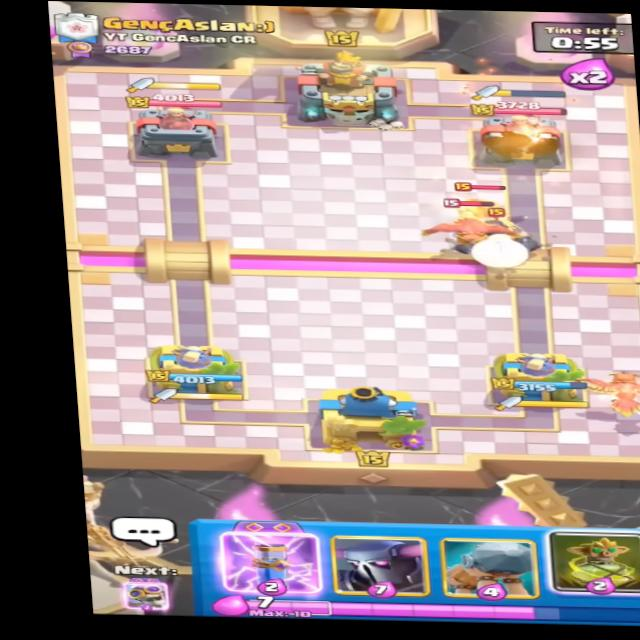mega-knight: (442, 214, 548, 261)
phoenix: (397, 199, 532, 255)
